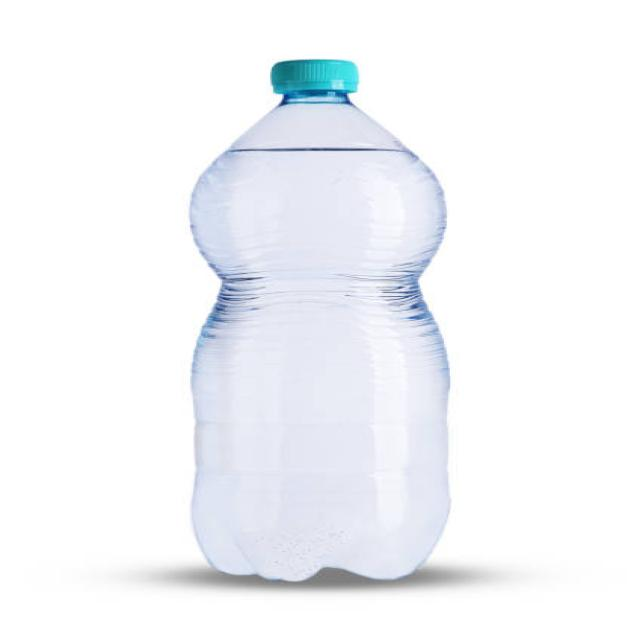bottle: (182, 57, 458, 579)
